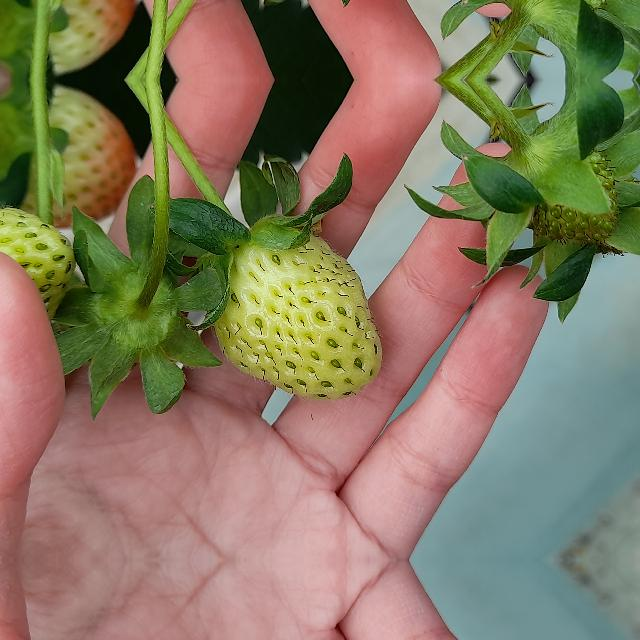Health_25: (213, 232, 381, 398), (516, 150, 622, 246)
